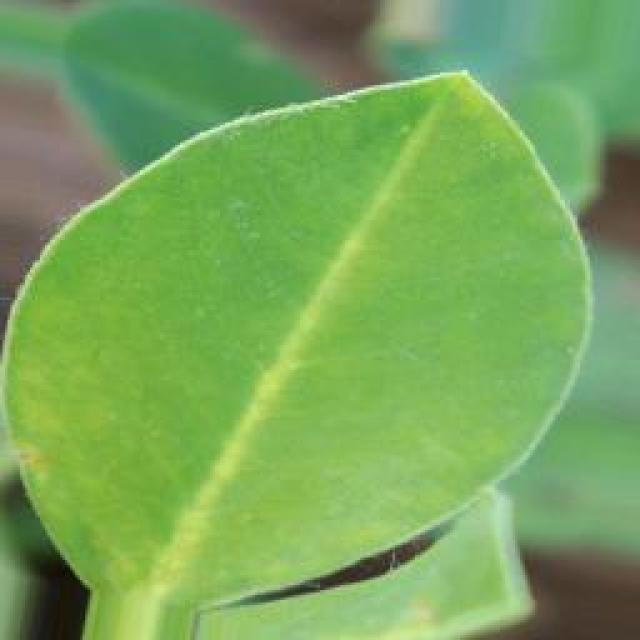Yellow_and_black_sigatoka: (0, 57, 592, 602)
